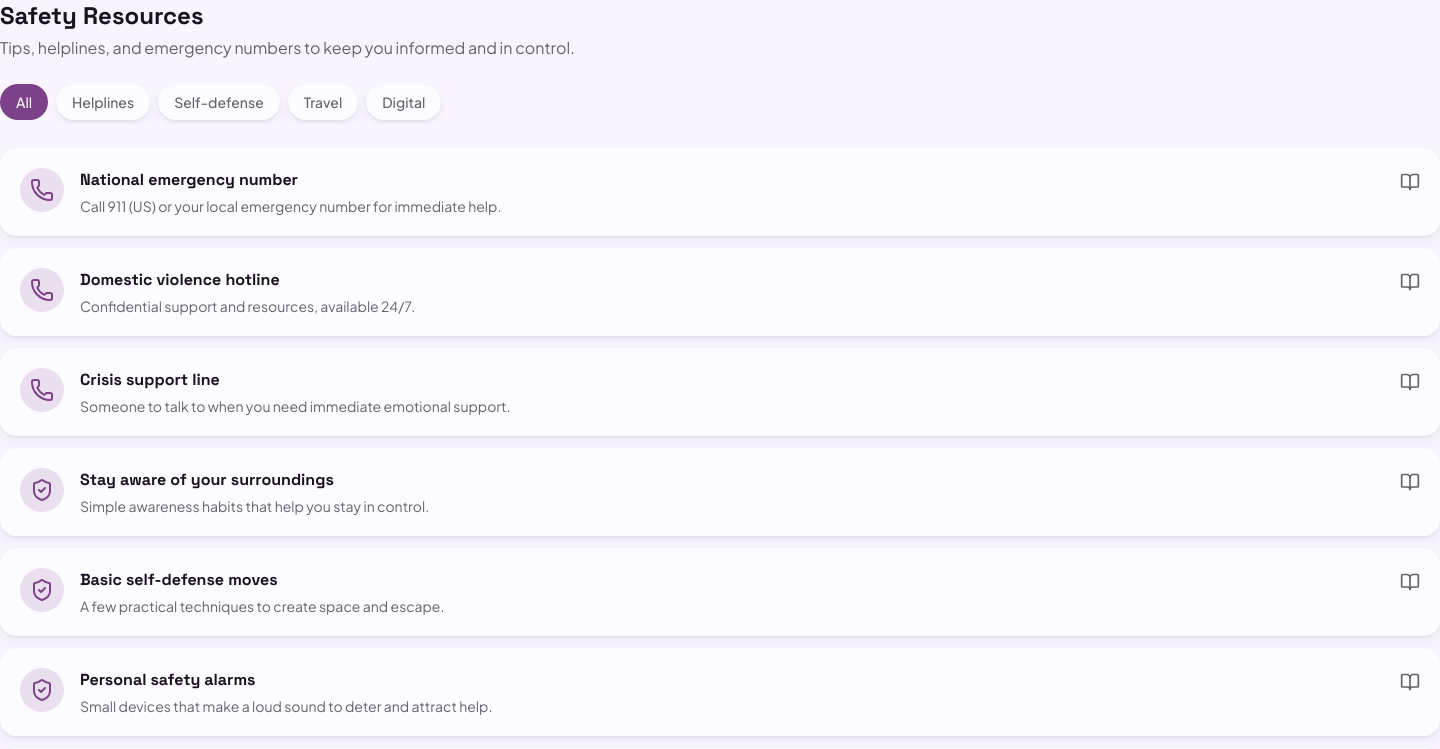
Test: ResourcesPage › lists resources and filters by category
Expected: the heading "National emergency number" is shown, 80,169 -> 298,190
Expected: the heading "Stay aware of your surroundings" is shown, 80,469 -> 334,490
Click the tab "Helplines" at [103, 102], box 56,84 -> 150,120
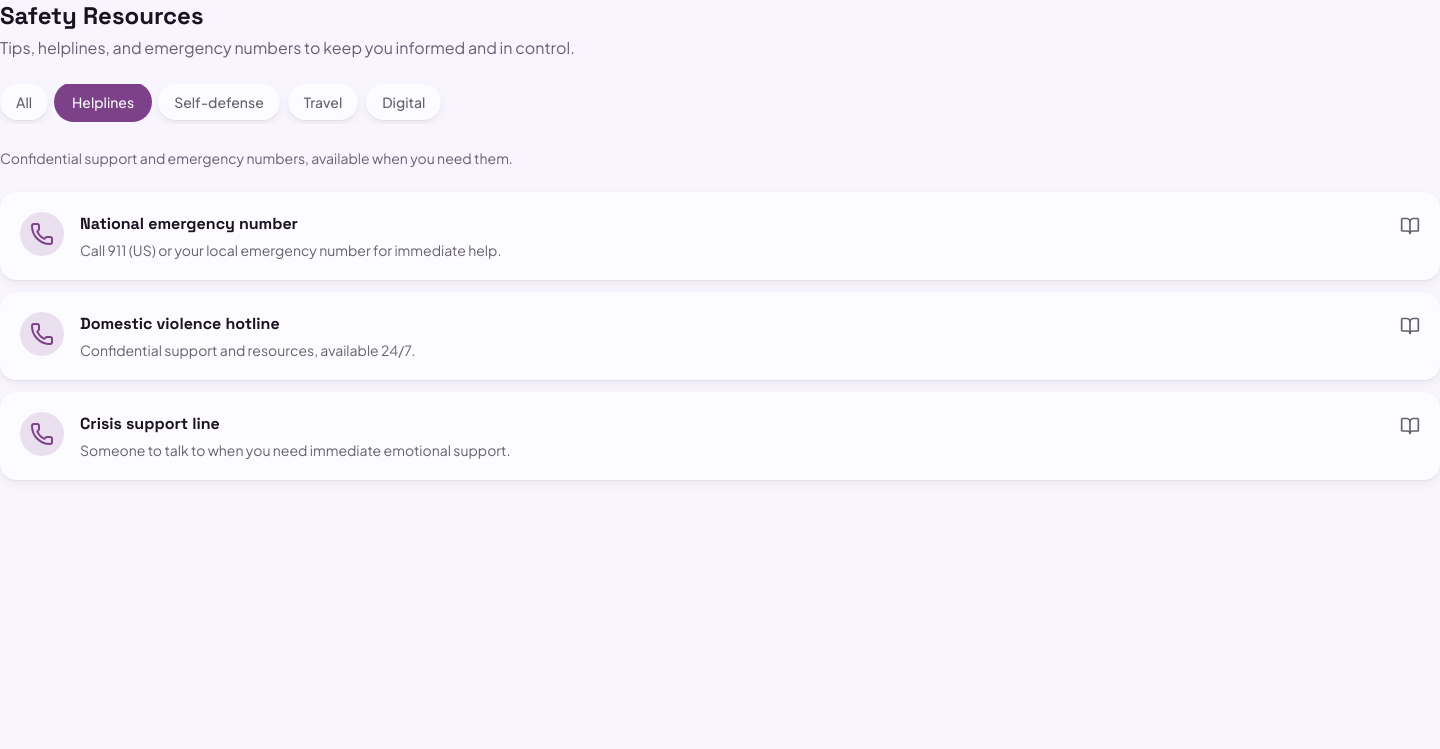
Expected: the heading "National emergency number" is shown, 80,213 -> 298,234
Expected: the button "Stay aware of your surroundings" is gone
